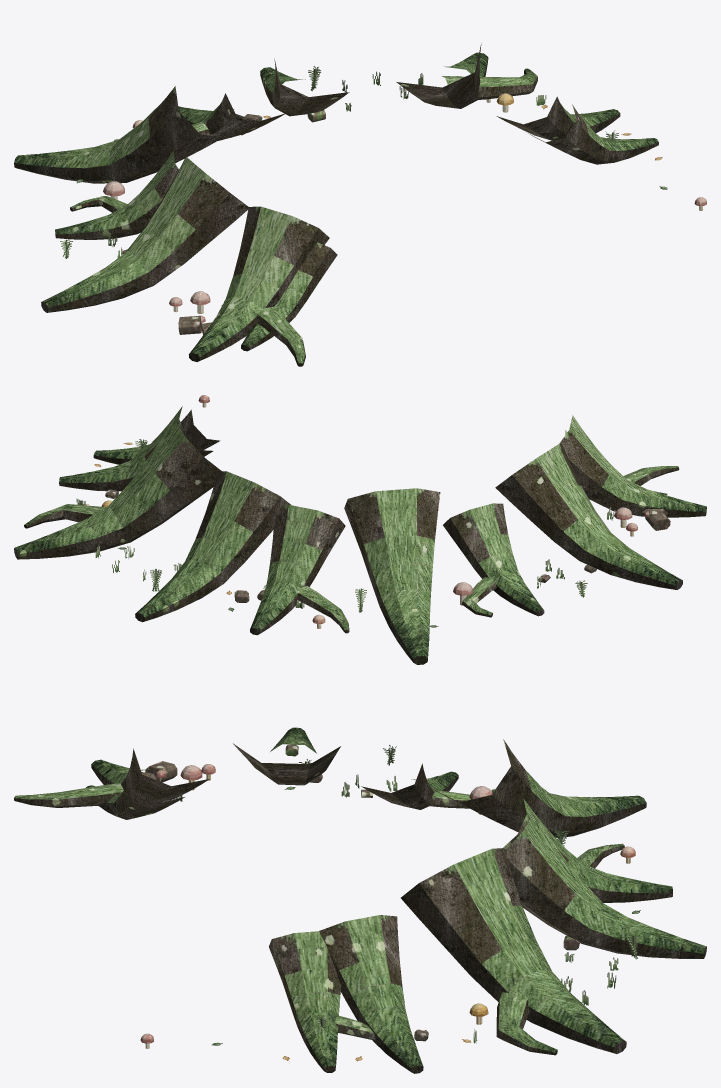
Rendered from roots.glb.
The picture shows the model from 3 angles, top to bottom: view 1: azimuth 30°, elevation 25°; view 2: azimuth 150°, elevation 25°; view 3: azimuth 270°, elevation 25°; orthographic projection. The views are drawn at different scales.
Parts seen in each view (by area): view 1: tile_bark, solid, card, tile_stone; view 2: tile_bark, card, tile_stone, solid; view 3: tile_bark, card, solid, tile_stone.
Part boxes in pixels (x1,y1,x2,y2): tile_bark: [14, 44, 658, 366]; solid: [103, 93, 706, 323]; card: [60, 66, 667, 305]; tile_stone: [122, 76, 457, 334]; tile_bark: [14, 406, 706, 664]; card: [76, 439, 615, 627]; tile_stone: [105, 489, 670, 602]; solid: [101, 395, 648, 628]; tile_bark: [14, 727, 706, 1073]; card: [176, 745, 640, 1061]; solid: [140, 764, 635, 1048]; tile_stone: [141, 744, 579, 1041].
Bounding box in the file's own units: 299 × 56.5 × 259.
2 materials, 2 textured.
